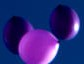Balloon: (17, 30, 59, 64), (49, 4, 80, 40)
